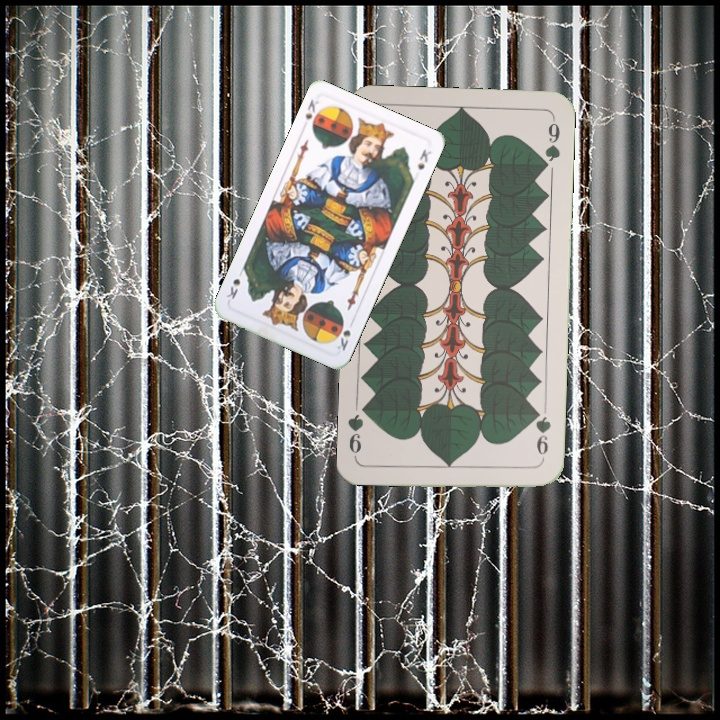G9: (530, 405, 553, 464)
SK: (333, 315, 357, 354), (301, 95, 321, 123)
